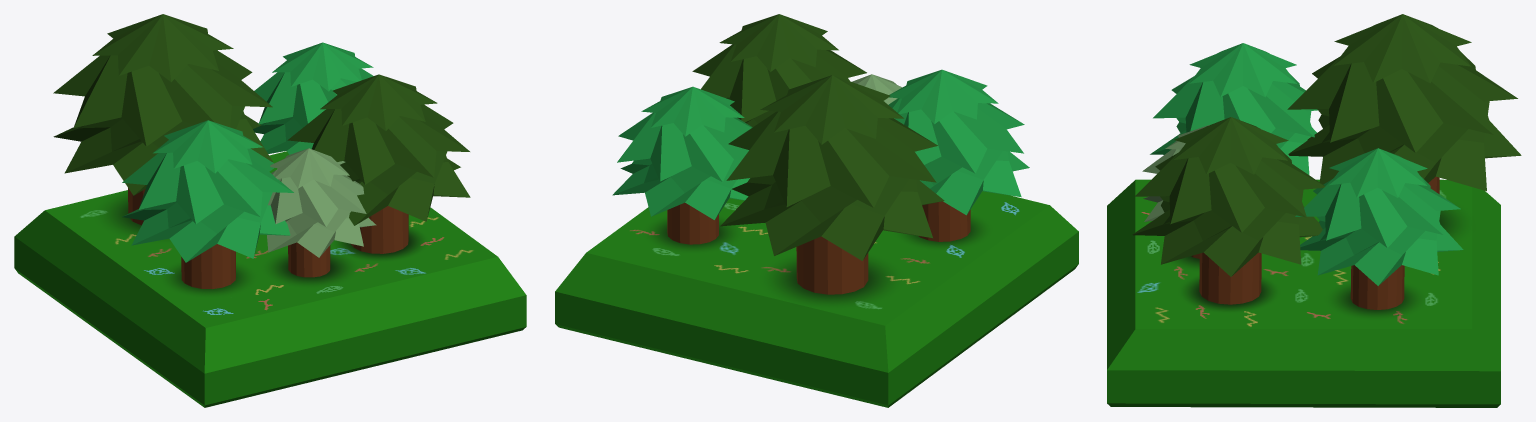
Rendered from trees_sqr_swamp.glb.
The picture shows the model from 3 angles, left to right: view 1: azimuth 30°, elevation 25°; view 2: azimuth 150°, elevation 25°; view 3: azimuth 270°, elevation 25°; orthographic projection. The views are drawn at different scales.
Visible parts, largest first — view 1: Cylinder; view 2: Cylinder; view 3: Cylinder.
Part boxes in pixels (bbox=[...]): Cylinder: bbox=[14, 14, 526, 407]; Cylinder: bbox=[555, 14, 1078, 407]; Cylinder: bbox=[1107, 14, 1521, 407].
Bounding box in the file's own units: 1.02 × 0.7861 × 1.05.
1 material, 1 textured.
